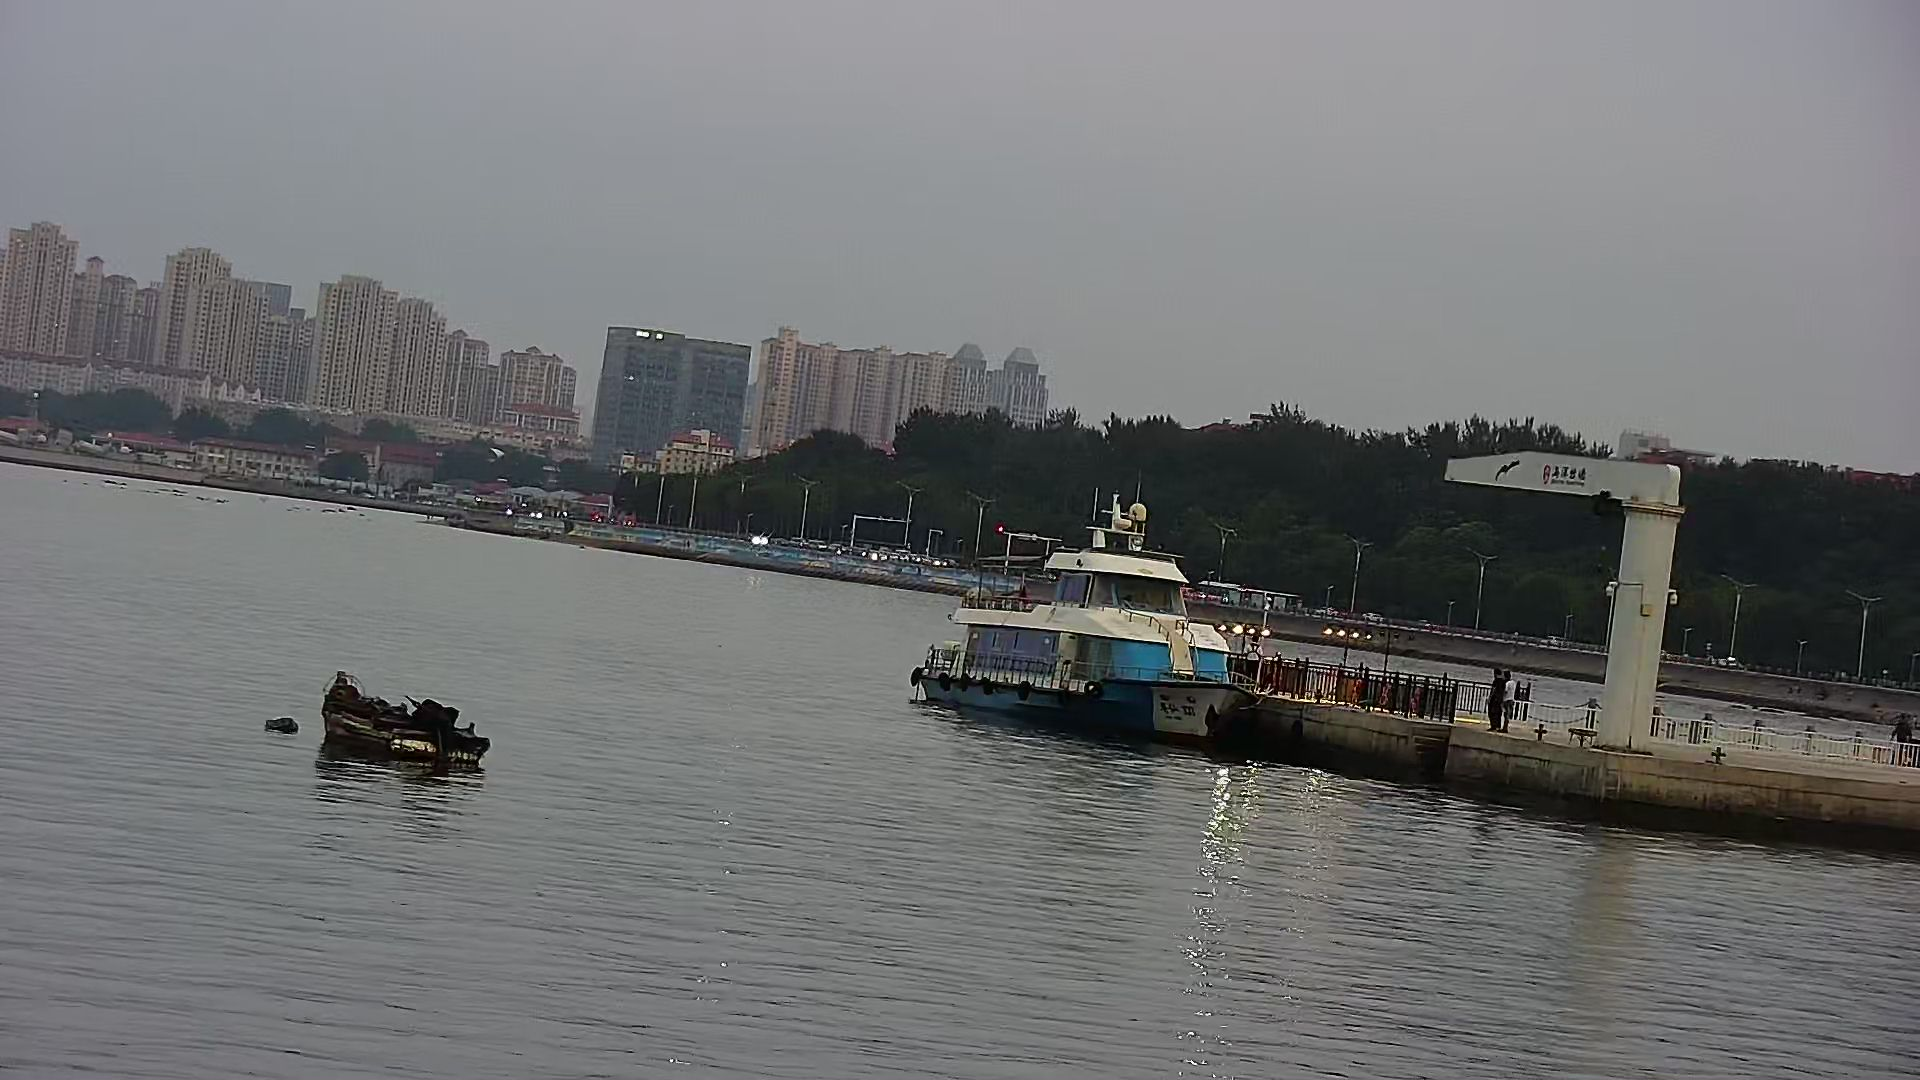boat: (309, 654, 485, 787)
harbor: (1232, 630, 1915, 856)
rubbish: (258, 711, 309, 742)
ship: (902, 483, 1247, 752)
